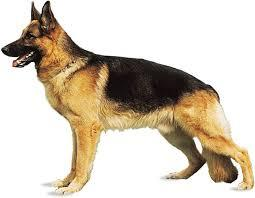Dog: (1, 0, 75, 73)
